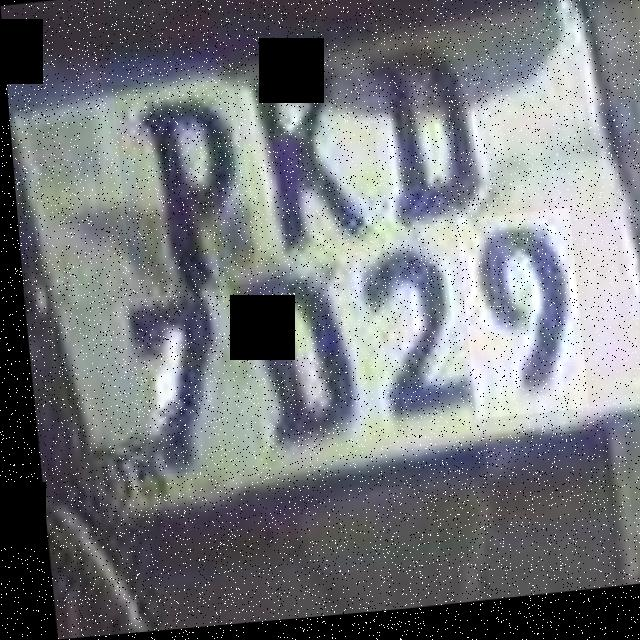2: (329, 243, 472, 442)
7: (82, 269, 224, 472)
9: (451, 217, 580, 428)
D: (364, 39, 508, 250)
K: (241, 59, 377, 265)
P: (110, 76, 252, 300)
